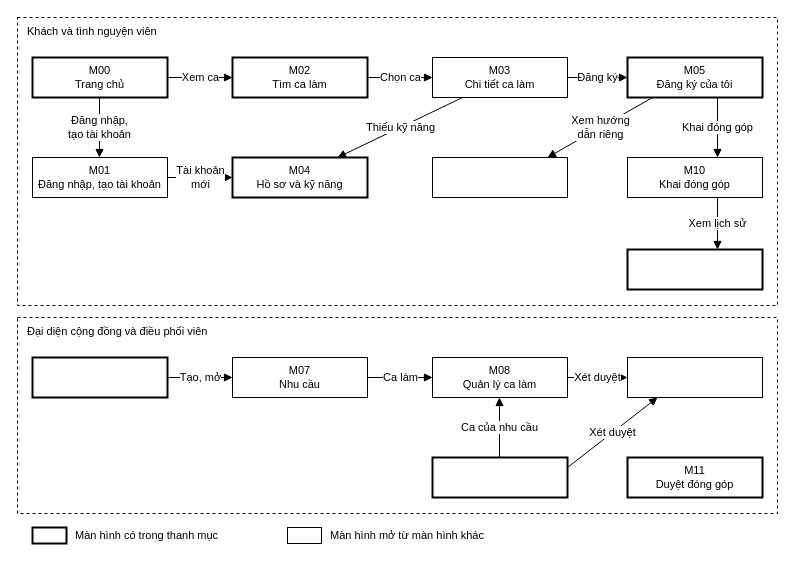
The diagram is 795 pixels wide and 563 high, and some of its shapes have lost their labels. Here are the shapes that lost their labels. From the top down, the centre of each, then its label:
At (x=500, y=177): "M12 Hướng dẫn riêng".
At (x=694, y=269): "M13 Lịch sử, tổng giờ".
At (x=99, y=377): "M06 Danh sách nhu cầu".
At (x=694, y=377): "M09 Xét duyệt đăng ký".
At (x=499, y=477): "M14 Điều phối ca".
